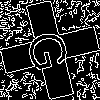G: (25, 25, 79, 74)
